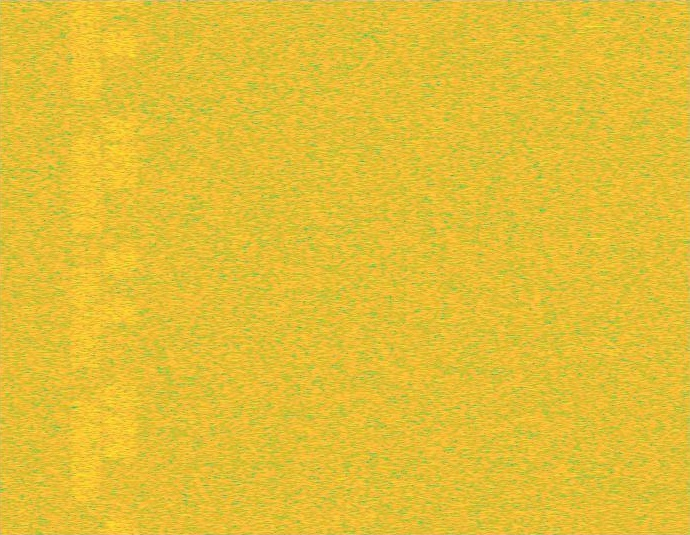5G: (69, 0, 104, 534)
LTE: (104, 0, 138, 534)
Radar: (587, 0, 601, 534)
